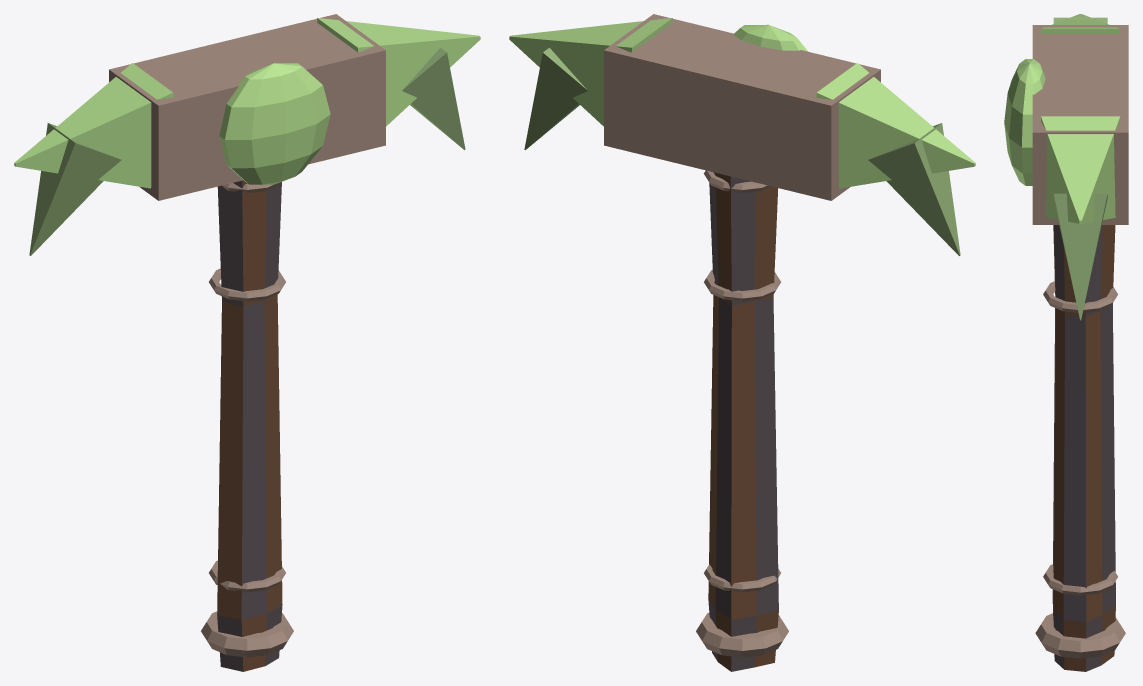
File: BH_PICK_P09_Picareta_do_Espinhal_Assombrado_V01.glb
3 views of the same model, side by side, from view 1: azimuth 30°, elevation 25°; view 2: azimuth 150°, elevation 25°; view 3: azimuth 270°, elevation 25° (orthographic). The views are drawn at different scales.
Parts seen in each view (by area): view 1: Handle | shaped shaft.001, Head | main crossbar.001, Core | socket gem.001, Head | mining tooth L.001, Head | mining tooth R.001, Head | hooked spur -1.001, Head | hooked spur 1.001, Handle | pommel.001, Handle | binding 3.001, Handle | binding 1.001; view 2: Head | main crossbar.001, Handle | shaped shaft.001, Head | mining tooth L.001, Head | mining tooth R.001, Head | hooked spur -1.001, Head | hooked spur 1.001, Handle | pommel.001, Core | socket gem.001, Handle | binding 3.001, Handle | binding 1.001; view 3: Handle | shaped shaft.001, Head | main crossbar.001, Head | mining tooth R.001, Core | socket gem.001, Head | hooked spur 1.001, Handle | pommel.001, Head | mining tooth L.001, Handle | binding 3.001, Handle | binding 1.001, Head | hooked spur -1.001.
Part boxes in pixels (bbox=[...]): Handle | shaped shaft.001: bbox=[217, 180, 282, 671]; Head | main crossbar.001: bbox=[109, 14, 385, 200]; Core | socket gem.001: bbox=[219, 63, 330, 184]; Head | mining tooth L.001: bbox=[14, 63, 173, 188]; Head | mining tooth R.001: bbox=[317, 18, 480, 126]; Head | hooked spur -1.001: bbox=[29, 123, 121, 255]; Head | hooked spur 1.001: bbox=[402, 48, 465, 149]; Handle | pommel.001: bbox=[201, 611, 293, 657]; Handle | binding 3.001: bbox=[209, 268, 285, 301]; Handle | binding 1.001: bbox=[209, 560, 285, 592]; Head | main crossbar.001: bbox=[604, 14, 880, 200]; Handle | shaped shaft.001: bbox=[708, 172, 778, 671]; Head | mining tooth L.001: bbox=[816, 63, 975, 188]; Head | mining tooth R.001: bbox=[509, 18, 672, 126]; Head | hooked spur -1.001: bbox=[868, 123, 960, 255]; Head | hooked spur 1.001: bbox=[524, 47, 587, 149]; Handle | pommel.001: bbox=[696, 613, 788, 657]; Core | socket gem.001: bbox=[733, 24, 807, 51]; Handle | binding 3.001: bbox=[704, 270, 780, 301]; Handle | binding 1.001: bbox=[704, 564, 780, 592]; Handle | shaped shaft.001: bbox=[1052, 225, 1115, 671]; Head | main crossbar.001: bbox=[1032, 25, 1128, 224]; Head | mining tooth R.001: bbox=[1041, 116, 1120, 223]; Core | socket gem.001: bbox=[1004, 59, 1045, 185]; Head | hooked spur 1.001: bbox=[1053, 193, 1107, 320]; Handle | pommel.001: bbox=[1035, 613, 1125, 658]; Head | mining tooth L.001: bbox=[1041, 14, 1120, 33]; Handle | binding 3.001: bbox=[1043, 281, 1117, 312]; Handle | binding 1.001: bbox=[1043, 564, 1117, 595]; Head | hooked spur -1.001: bbox=[1053, 17, 1107, 23].
Size of the model in its own units: 1.84 by 2.32 by 0.44.
